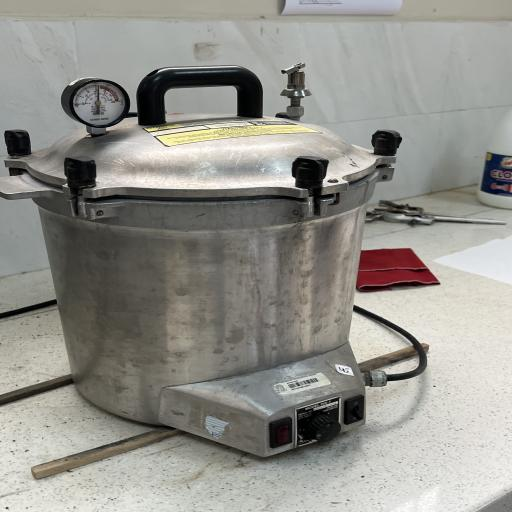Autoclave: (0, 54, 410, 466)
